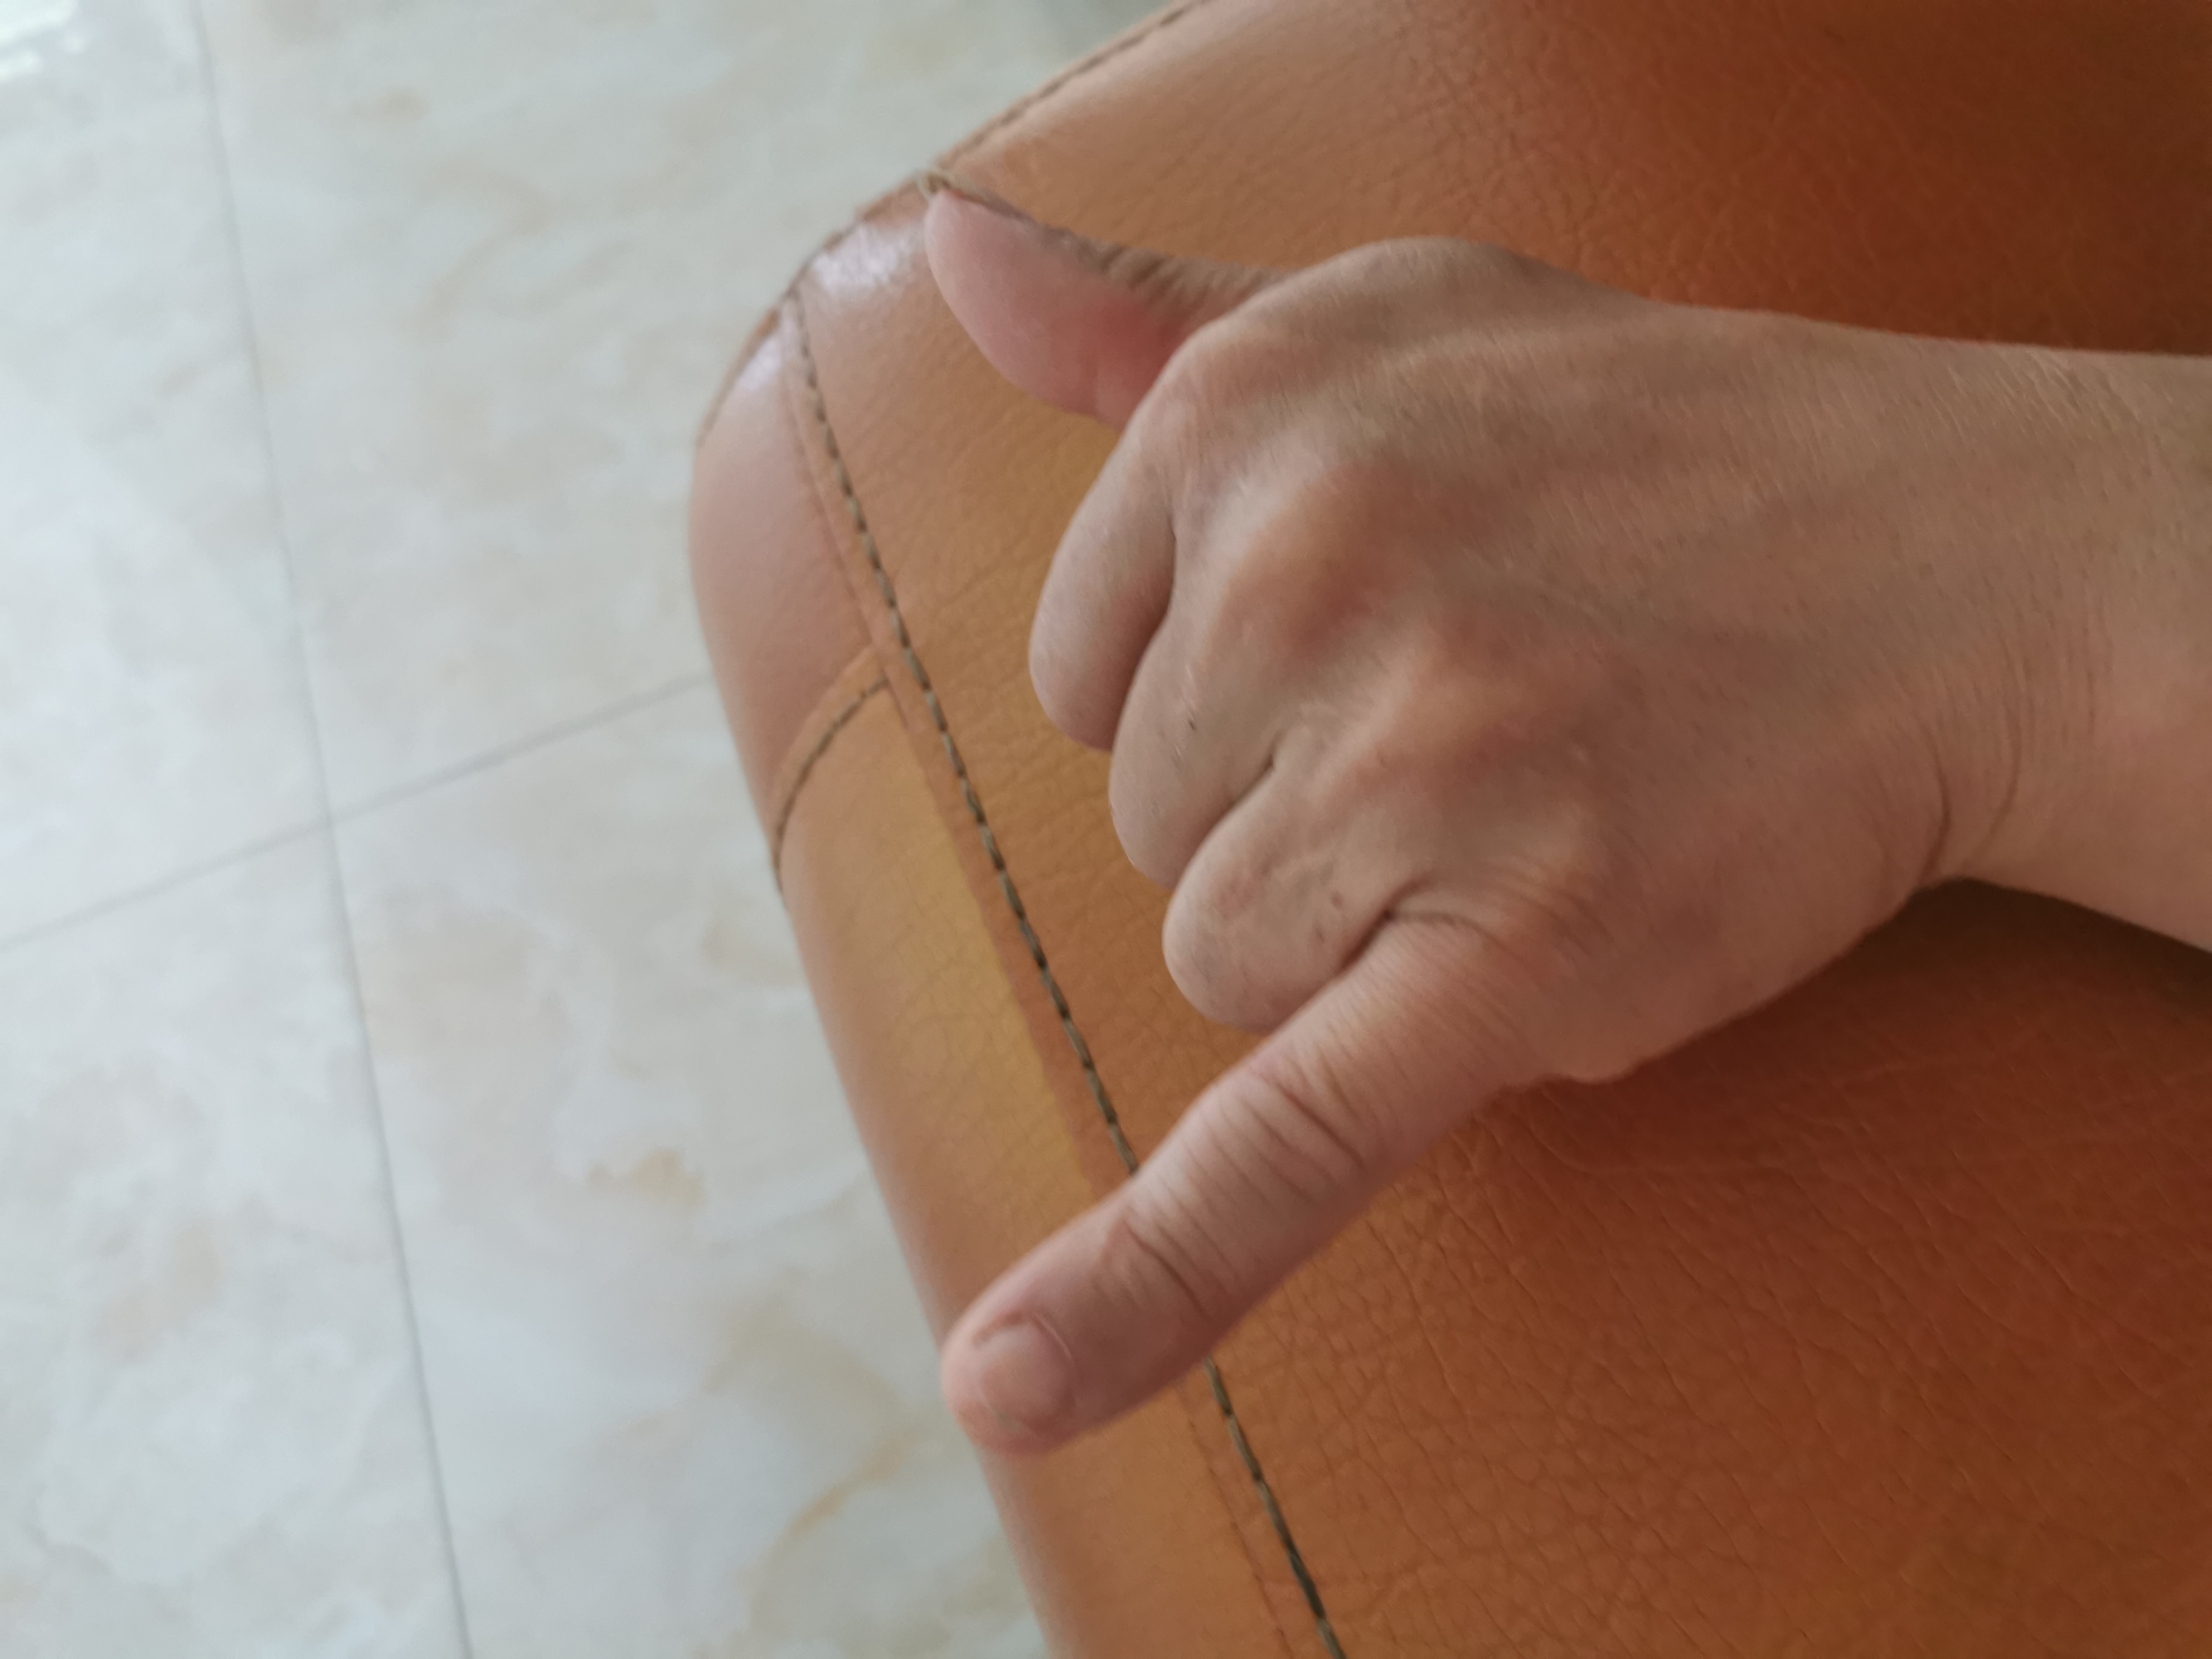clockwise: (871, 171, 1979, 1507)
